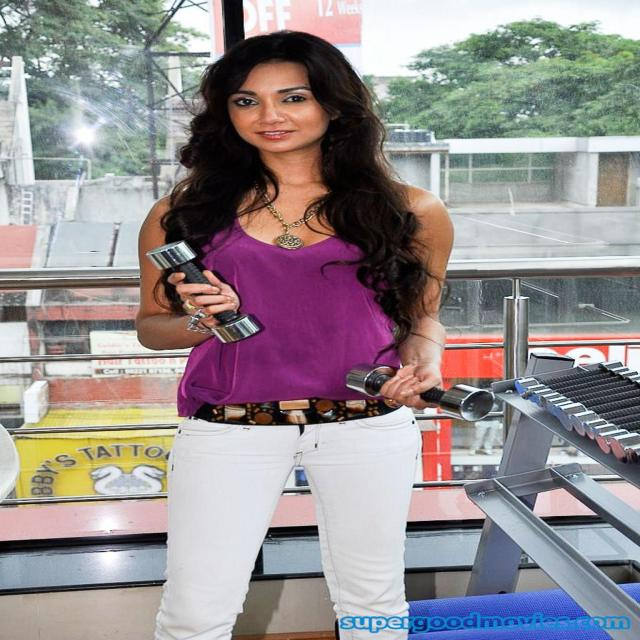Face: (218, 58, 342, 156)
